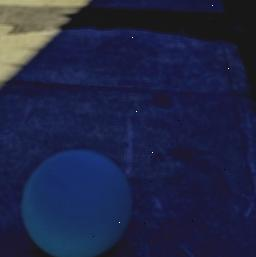algae: (18, 145, 133, 257)
